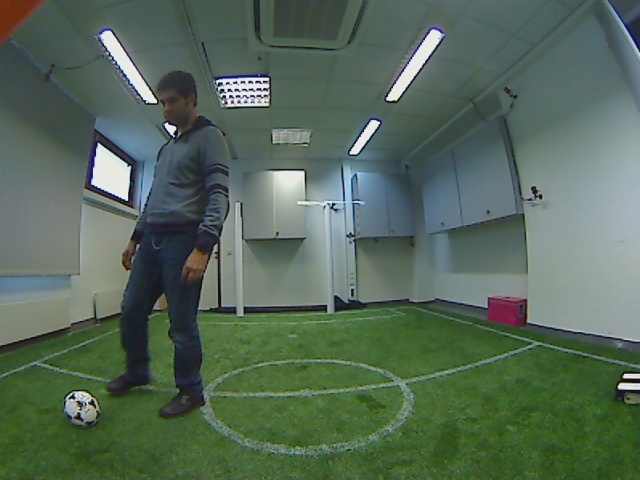ball: (58, 386, 106, 433)
